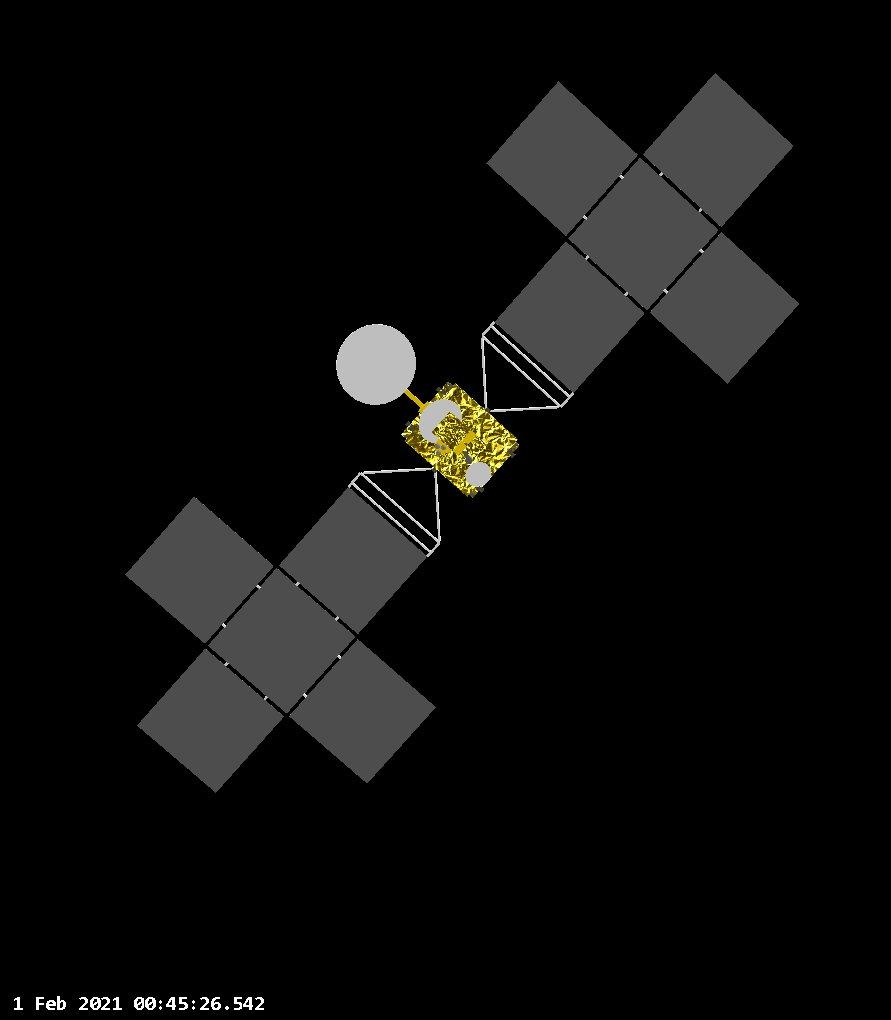antenna: (332, 321, 415, 407), (462, 454, 494, 492)
body: (395, 381, 522, 494)
solar: (479, 67, 807, 400), (104, 477, 439, 795)
